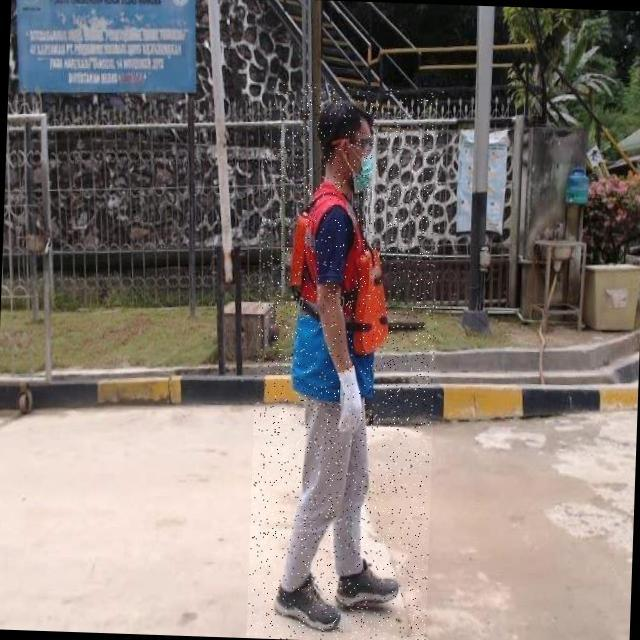Gloves: (328, 356, 377, 441)
Person: (263, 93, 422, 640)
Safety Boot: (270, 571, 346, 638), (333, 558, 404, 614)
Safety Vest: (288, 178, 395, 402)
no-helmet: (313, 94, 375, 131)
